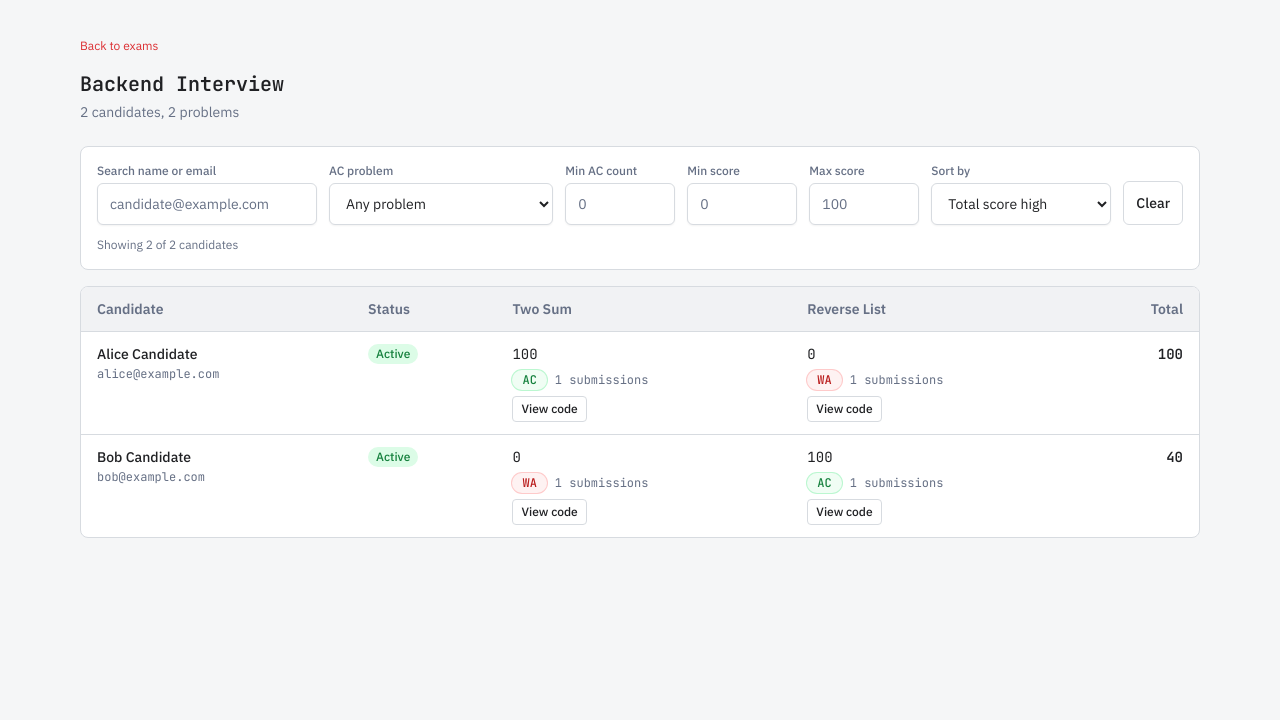
ExamResultsPage › opens the selected submission source code in a read-only viewer
expect the text "Alice Candidate" is shown: met, box [97, 345, 198, 363]
Click the 1st button "View code" at {"x": 550, "y": 409}, box [512, 396, 587, 422]
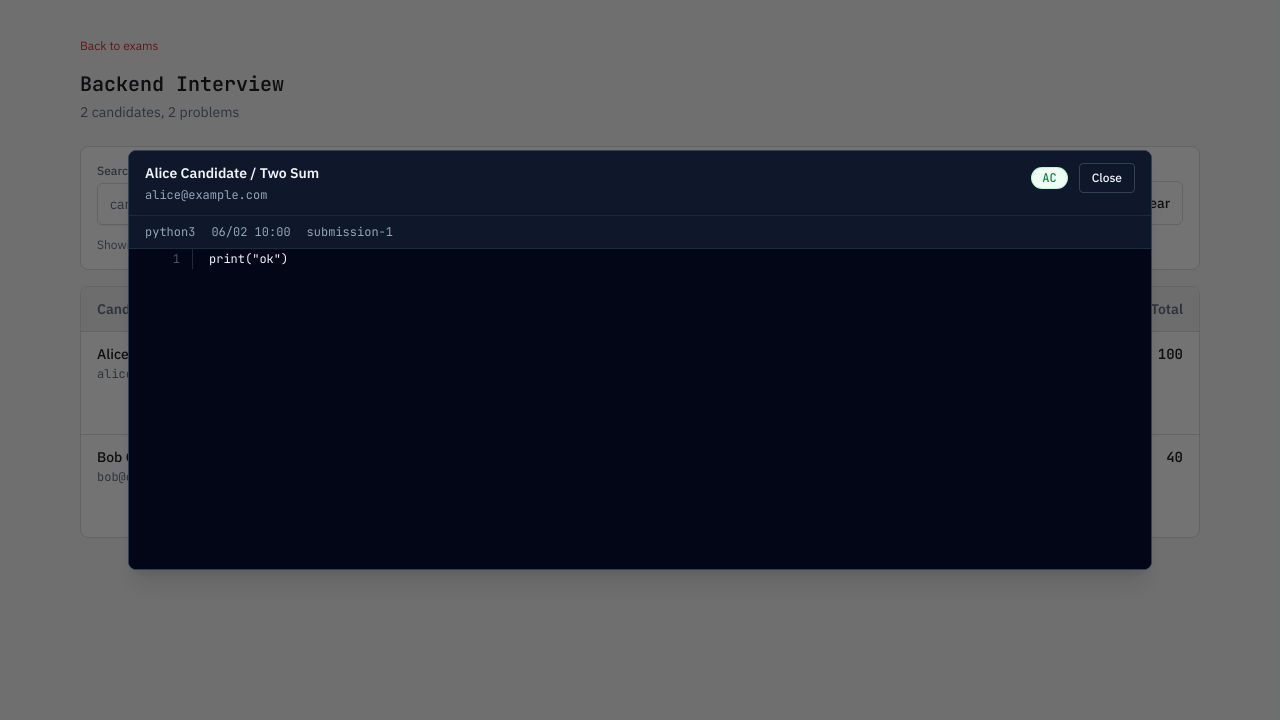
expect the dialog is shown: met
expect the text "print(\"ok\")" is shown: met, box [209, 251, 288, 267]
expect the text "Alice Candidate / Two Sum" is shown: met, box [145, 163, 319, 183]
